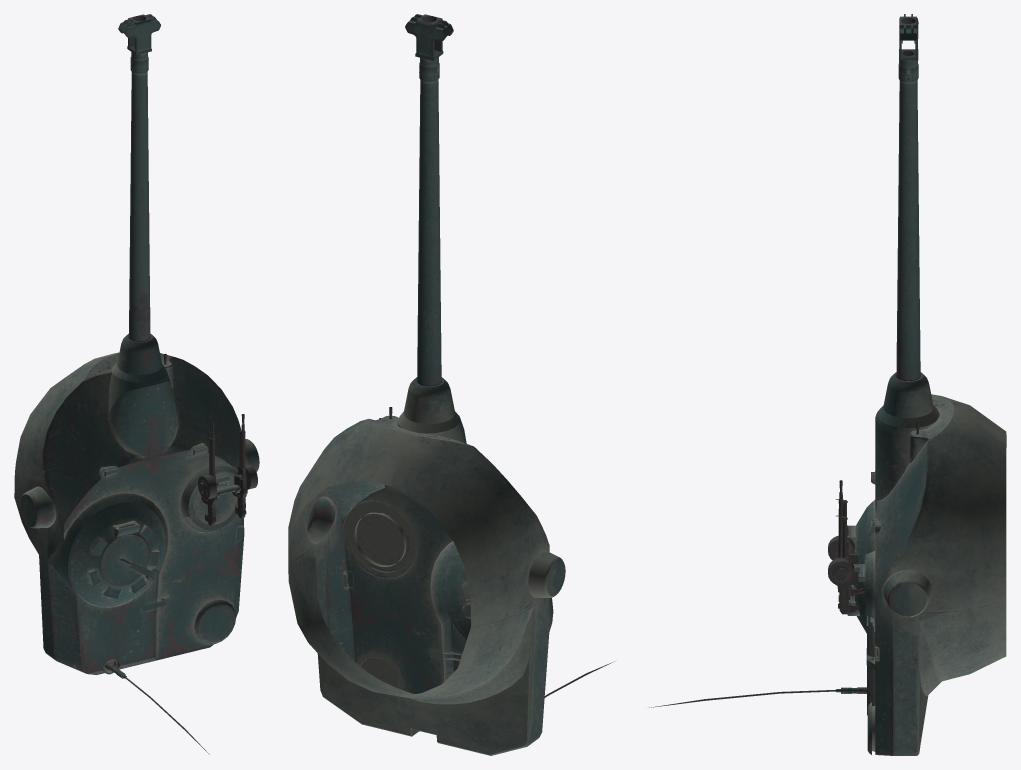
The model's file is Gun_01.glb.
3 views of the same model, side by side, from view 1: azimuth 30°, elevation 25°; view 2: azimuth 150°, elevation 25°; view 3: azimuth 270°, elevation 25° (orthographic). The views are drawn at different scales.
Visible parts, largest first — view 1: set_0_group_0; view 2: set_0_group_0; view 3: set_0_group_0.
Part boxes in pixels (bbox=[...]): set_0_group_0: bbox=[14, 14, 259, 754]; set_0_group_0: bbox=[288, 14, 614, 755]; set_0_group_0: bbox=[649, 14, 1006, 755].
Size of the model in its own units: 2.32 by 6.37 by 2.93.
Materials: 1 (1 with a texture image).
